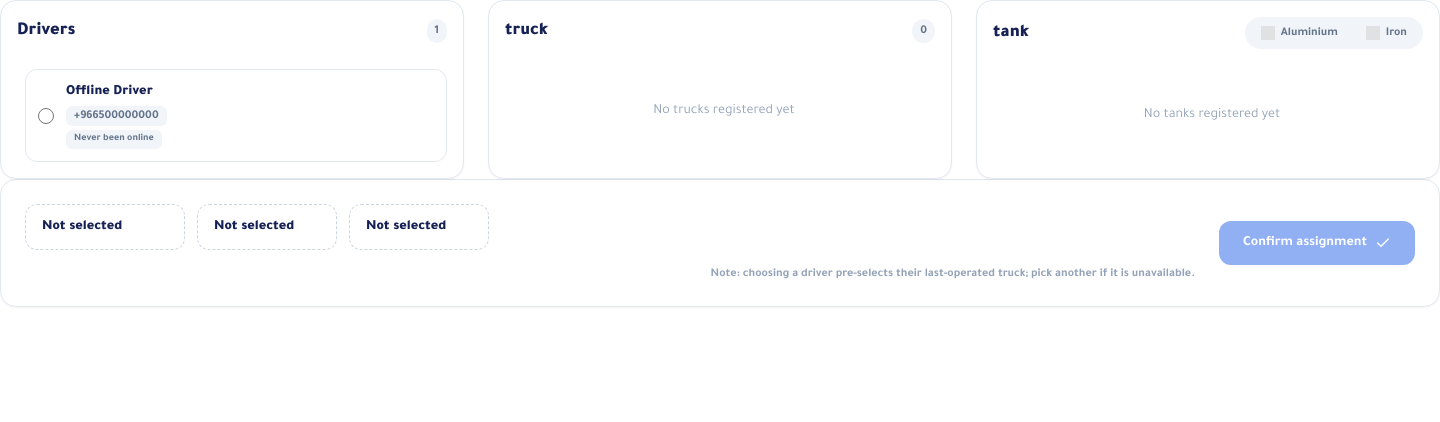
Test: Candidate eligibility rendering (spec 010 US1) › shows the required reason field only for an OFFLINE selection, blocking confirm until filled
The image size is (1440, 422).
expect the text "Reason for assigning an offline driver" is not shown: met
What coordinates should you click on to do the following:
click the radio button
I would click on:
 (46, 116)
Its box is [38,108,54,124].
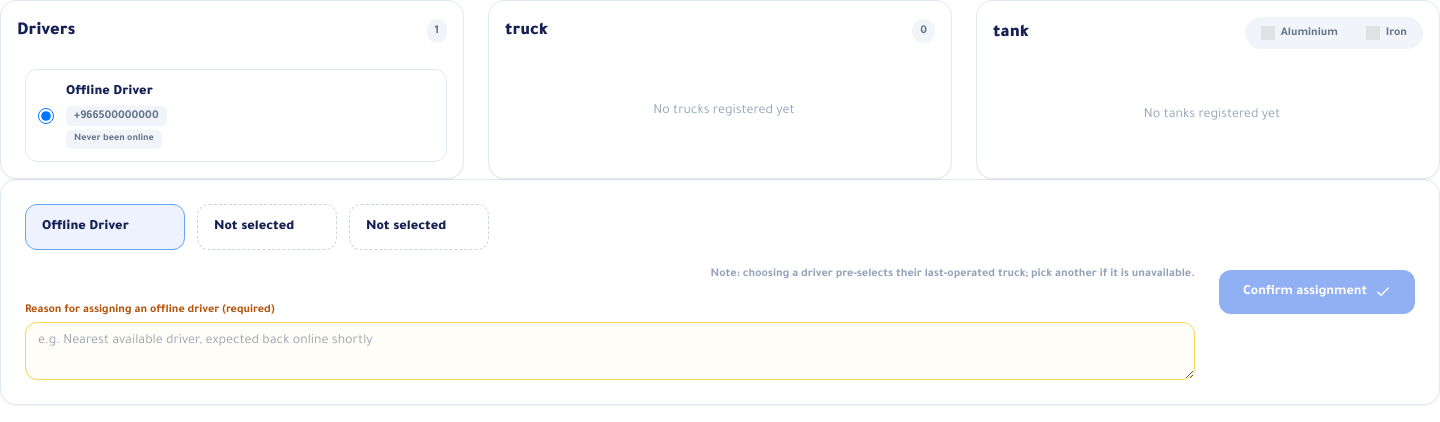
expect the button "Confirm assignment" is disabled: met, box [1219,270,1415,314]
expect the text "Reason for assigning an offline driver (required)" is shown: met, box [25,304,274,316]
